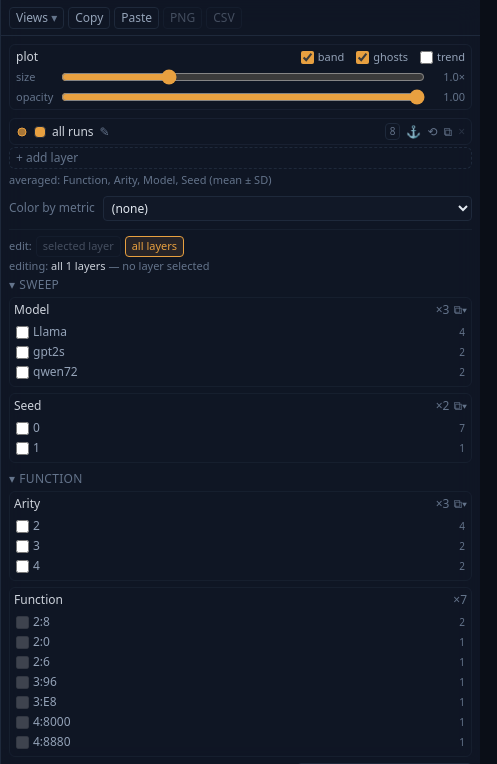
Test: cascade note › isolating a facet value that strands another pin shows a transient 'followed' note
Click the 1st button "⧉▾" at (460, 310), box [453,302,467,318]
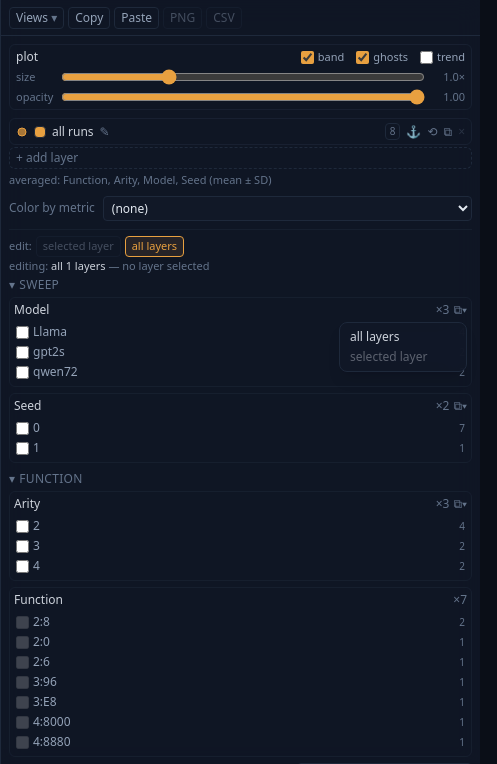
expect the button with aria-label "expand into selected layer" is shown: met, box [344,347,462,367]
